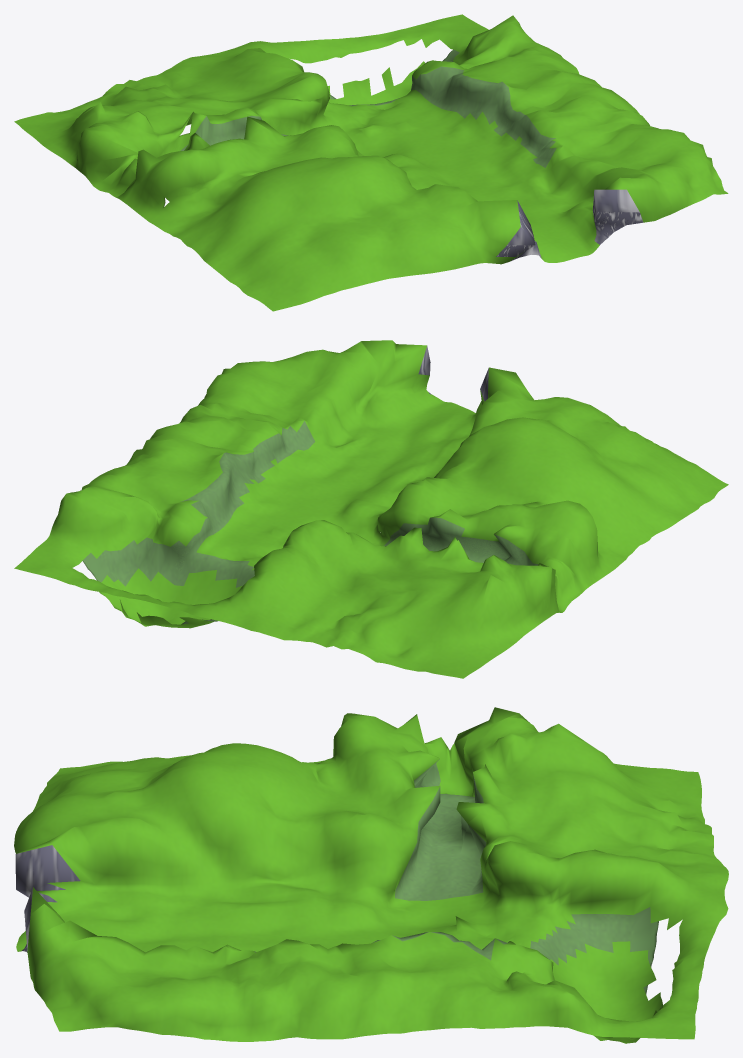
The model's file is File nikolai .fbx.
3 views of the same model, one above another, from view 1: azimuth 30°, elevation 25°; view 2: azimuth 150°, elevation 25°; view 3: azimuth 270°, elevation 25° (orthographic). The views are drawn at different scales.
Visible parts, largest first — view 1: Plane.003; view 2: Plane.003; view 3: Plane.003.
Part boxes in pixels (<box>): Plane.003: <box>14,14,728,311</box>; Plane.003: <box>14,340,728,678</box>; Plane.003: <box>14,707,728,1043</box>.
Size of the model in its own units: 16012 by 4054 by 16976.
